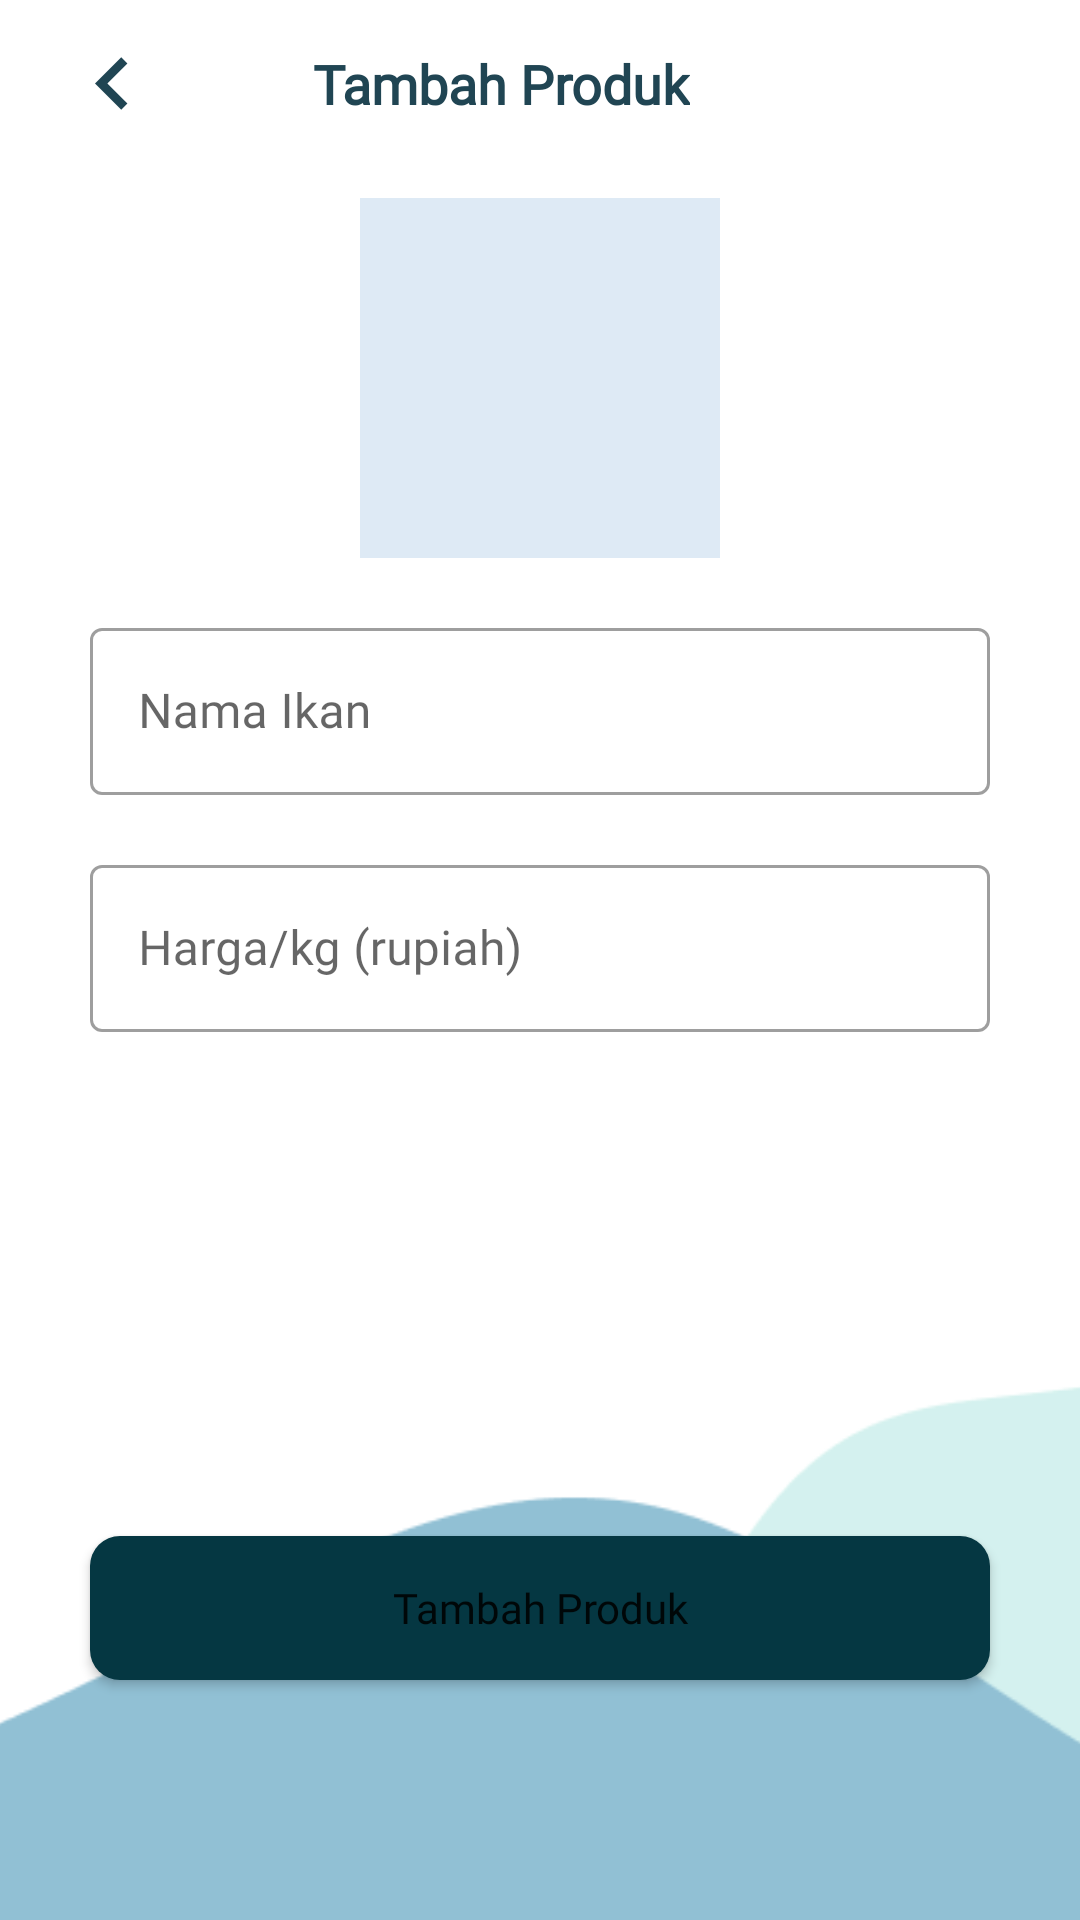

Named icons in this screenshot (1080x1920) and their bounding boxes, rect(x1, y1, x2, y2):
keyboard arrow left: rect(95, 57, 128, 110)
